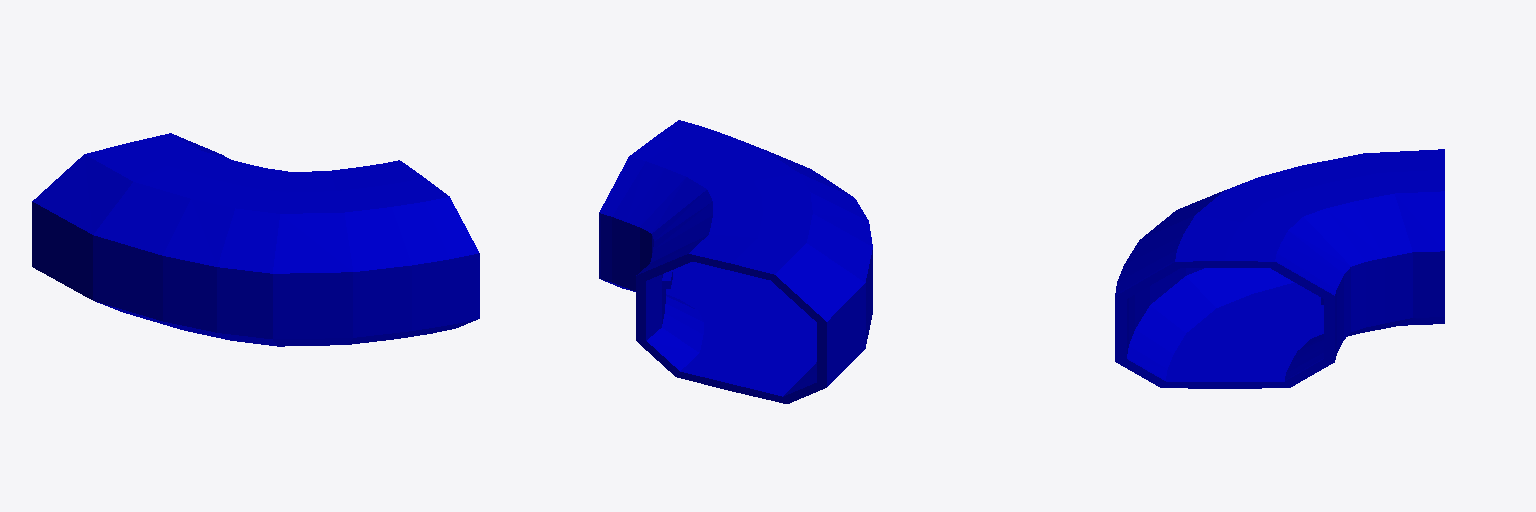
The model's file is corridore_90.obj.
3 views of the same model, side by side, from view 1: azimuth 30°, elevation 25°; view 2: azimuth 150°, elevation 25°; view 3: azimuth 270°, elevation 25° (orthographic).
Parts seen in each view (by area): view 1: Cube.001; view 2: Cube.001; view 3: Cube.001.
Part boxes in pixels (x1,y1,x2,y2): Cube.001: (32, 133, 479, 346); Cube.001: (599, 120, 872, 403); Cube.001: (1115, 149, 1444, 388).
Bounding box in the file's own units: 3.32 × 1.43 × 3.35.